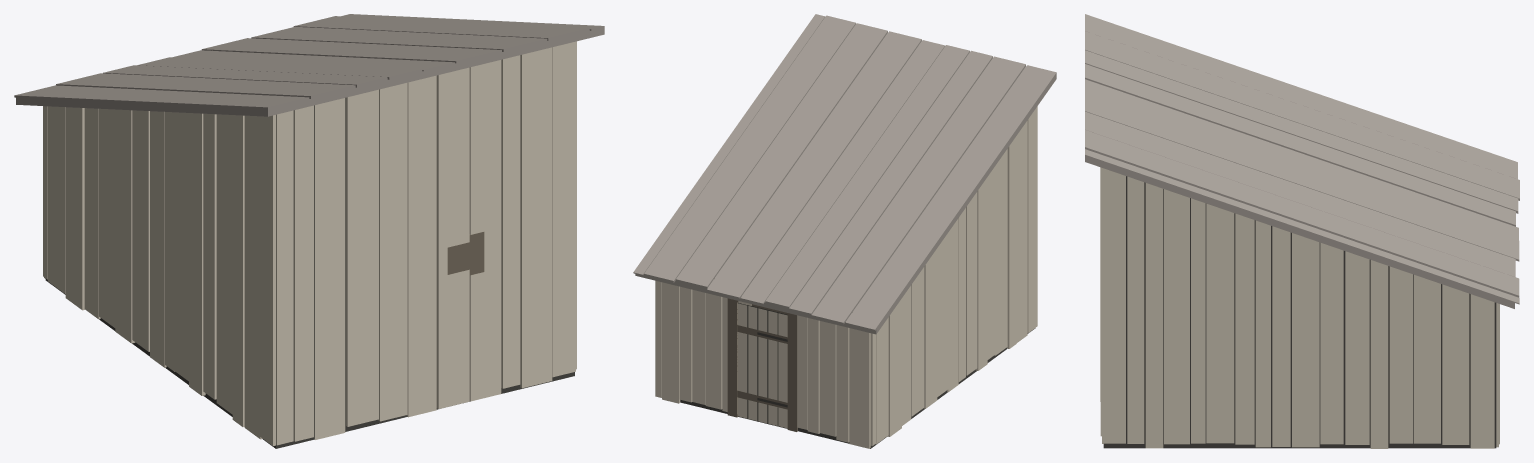
Rendered from recon_1835_west_013__inferred_1835.glb.
3 renders of one model, left to right at view 1: azimuth 30°, elevation 25°; view 2: azimuth 150°, elevation 25°; view 3: azimuth 270°, elevation 25°, orthographic. The views are drawn at different scales.
Visible parts, largest first — view 1: recon_1835_west_013__inferred_1835; view 2: recon_1835_west_013__inferred_1835; view 3: recon_1835_west_013__inferred_1835.
Boxes of the visible parts, x1,y1,x2,y2 form: recon_1835_west_013__inferred_1835: (14, 14, 604, 448); recon_1835_west_013__inferred_1835: (633, 14, 1056, 448); recon_1835_west_013__inferred_1835: (1085, 14, 1519, 448).
Size of the model in its own units: 4.12 by 4.15 by 5.4.
